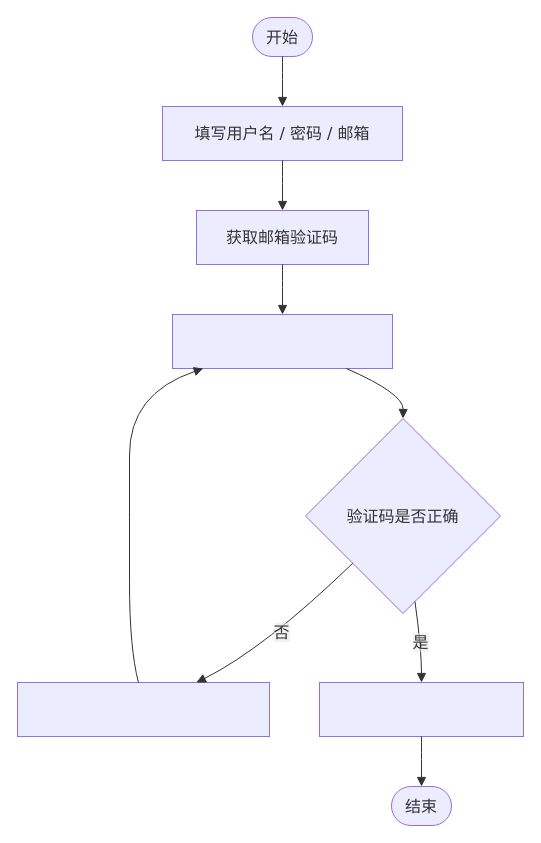
The diagram is 541 pixels wide and 843 high, and some of its shapes have lost their labels. The shapes that lost their labels are listed below. From the top down, each one's box as (x1, y1, x2, y2) in pixels, then its label:
(172, 314, 392, 368): 输入验证码并提交注册
(16, 682, 270, 736): 提示验证码错误，重新输入
(318, 682, 524, 736): 注册成功，自动登录
